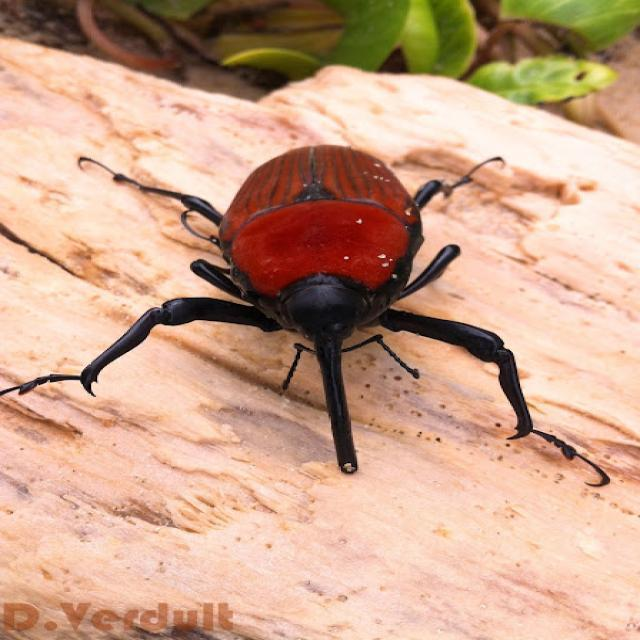Red-palm-weevil: (67, 138, 595, 512)
